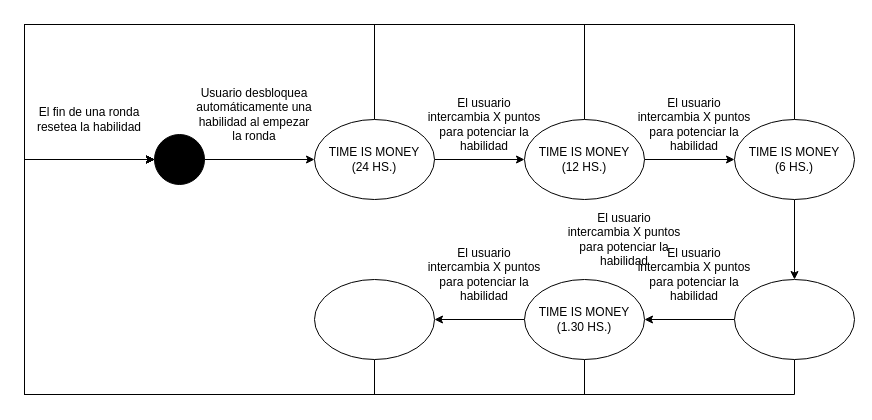
The diagram is 872 pixels wide and 420 high, and some of its shapes have lost their labels. Here are the shapes that lost their labels. From the top down, the centre of each, then its label:
At point (374, 319): "TIME IS MONEY (1 HS.)".
At point (794, 319): "TIME IS MONEY (3 HS.)".
